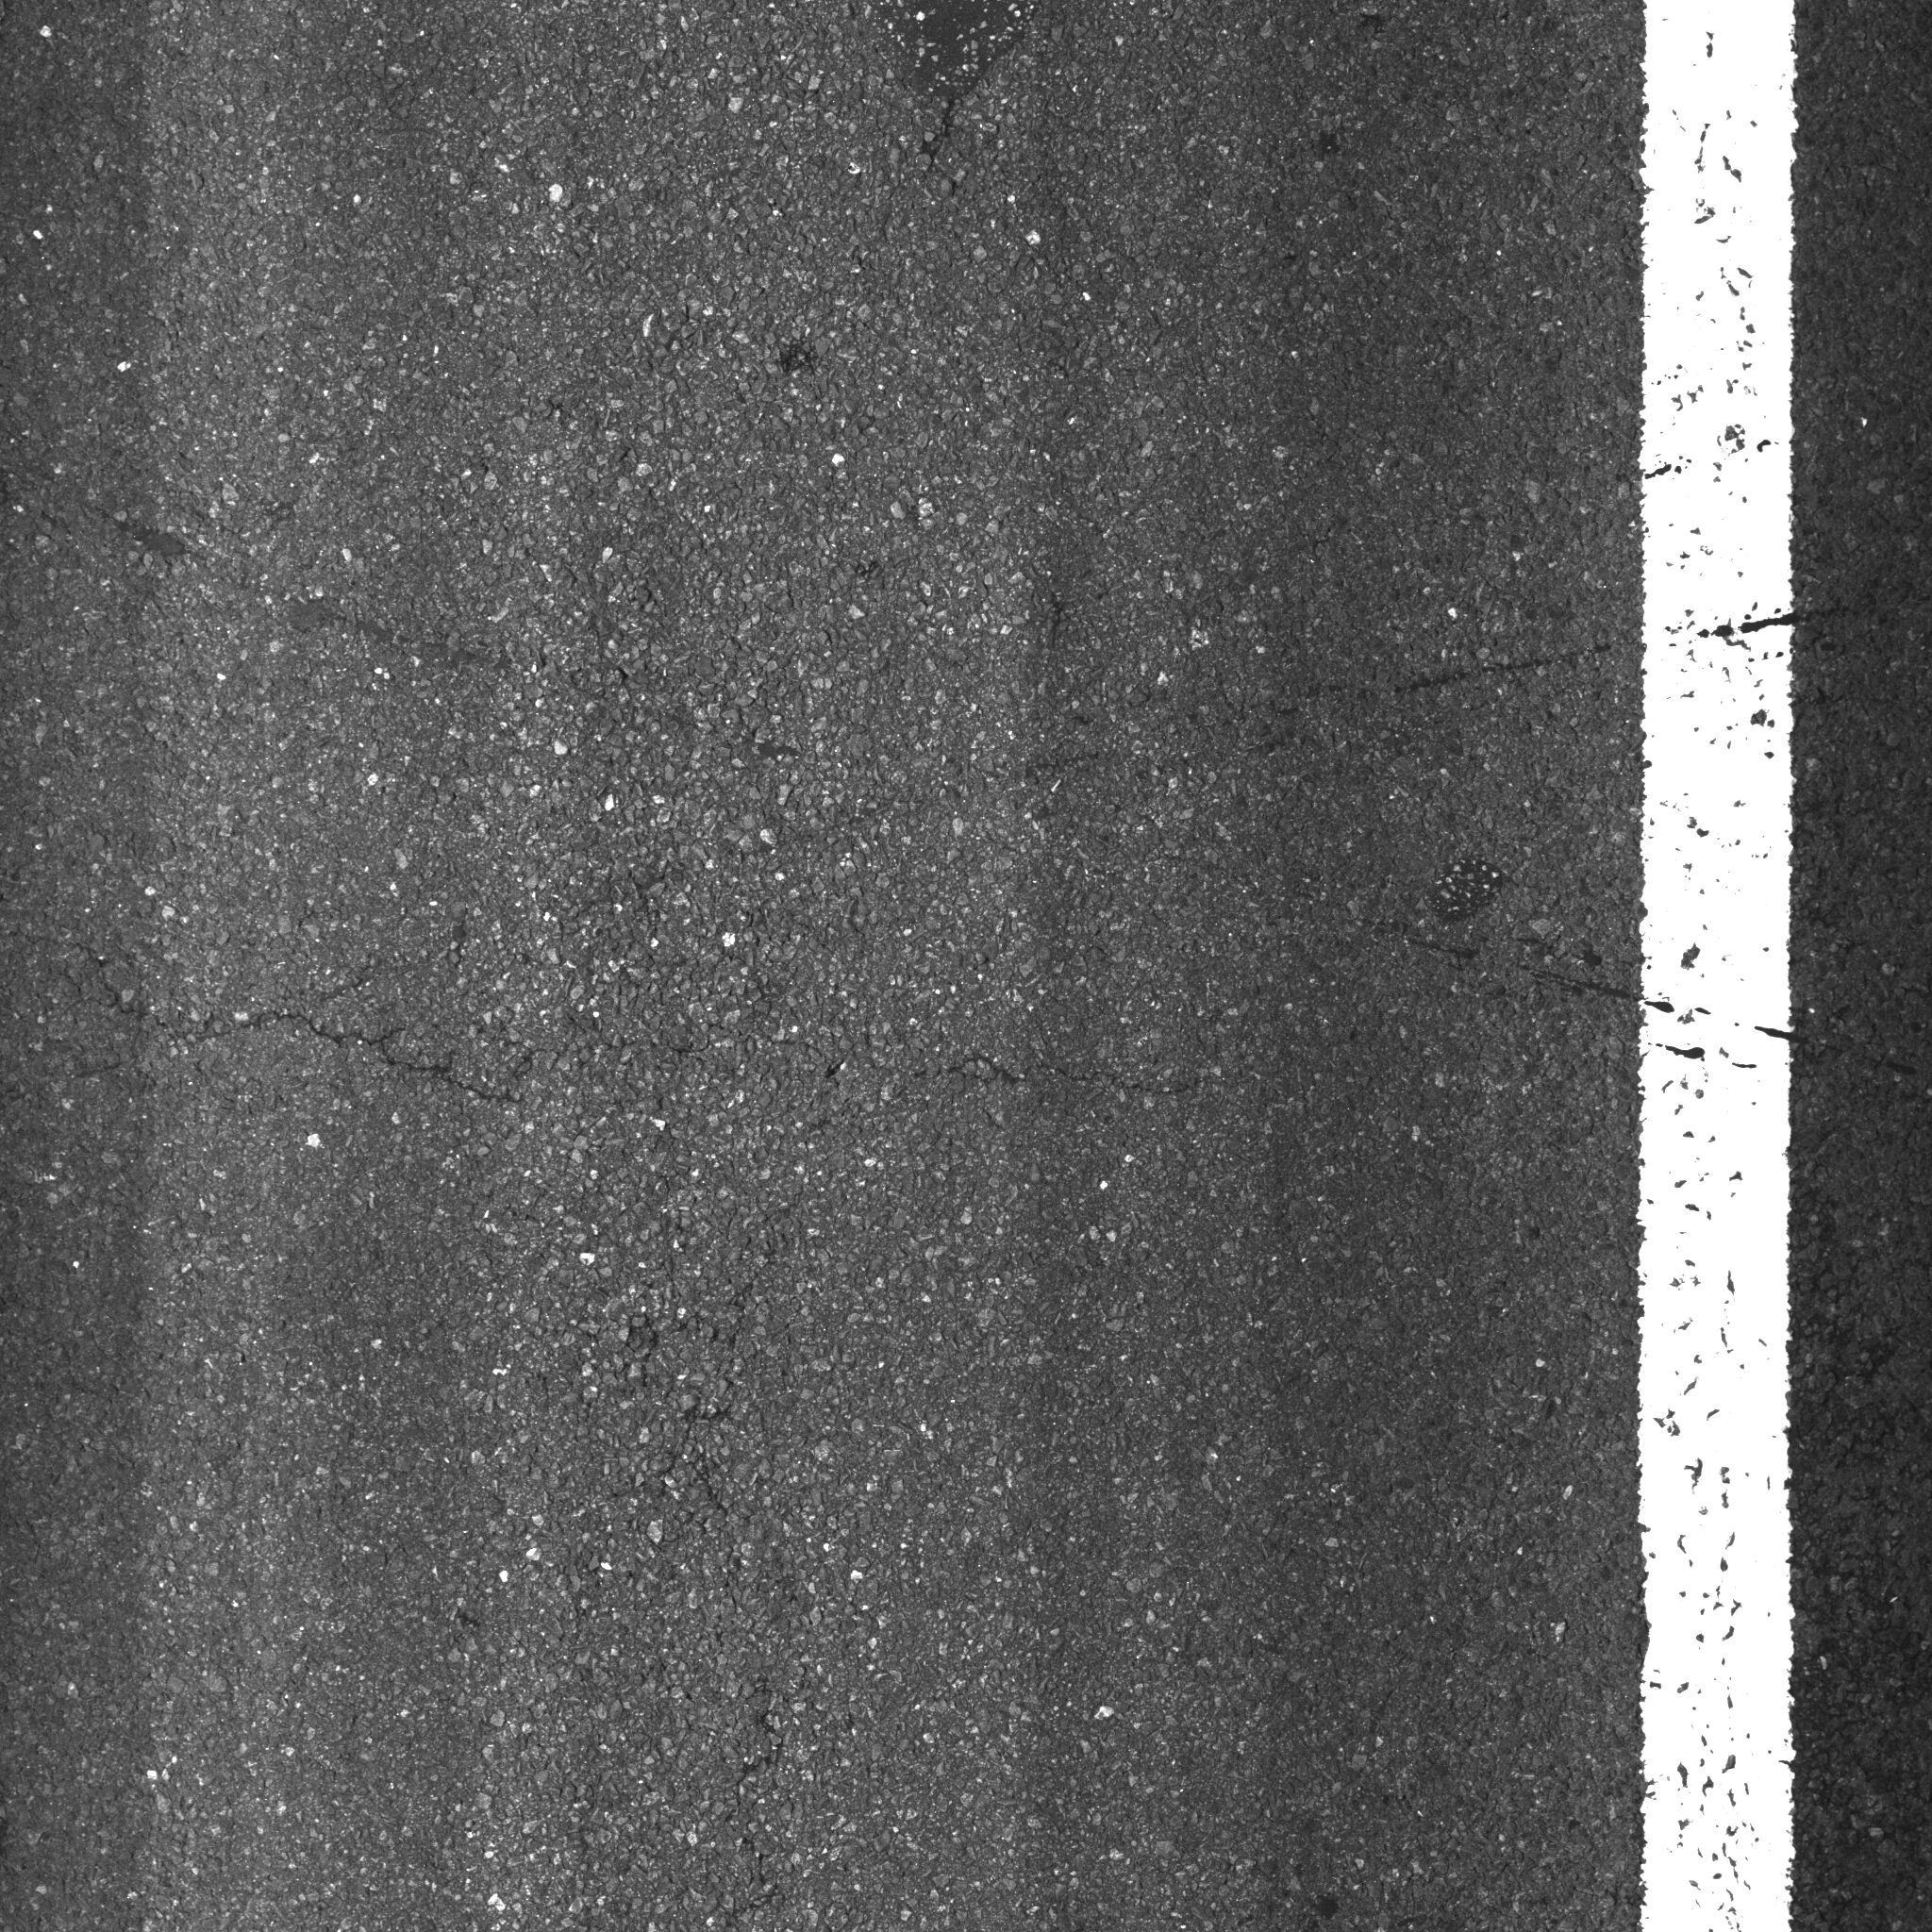transeverse: (71, 941, 1200, 1141), (1283, 870, 1932, 1116), (1376, 593, 1872, 711)
